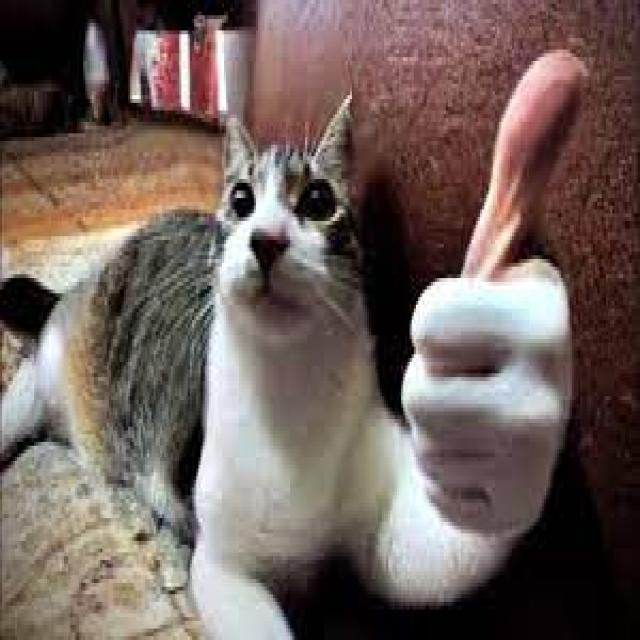cat: (1, 94, 580, 640)
